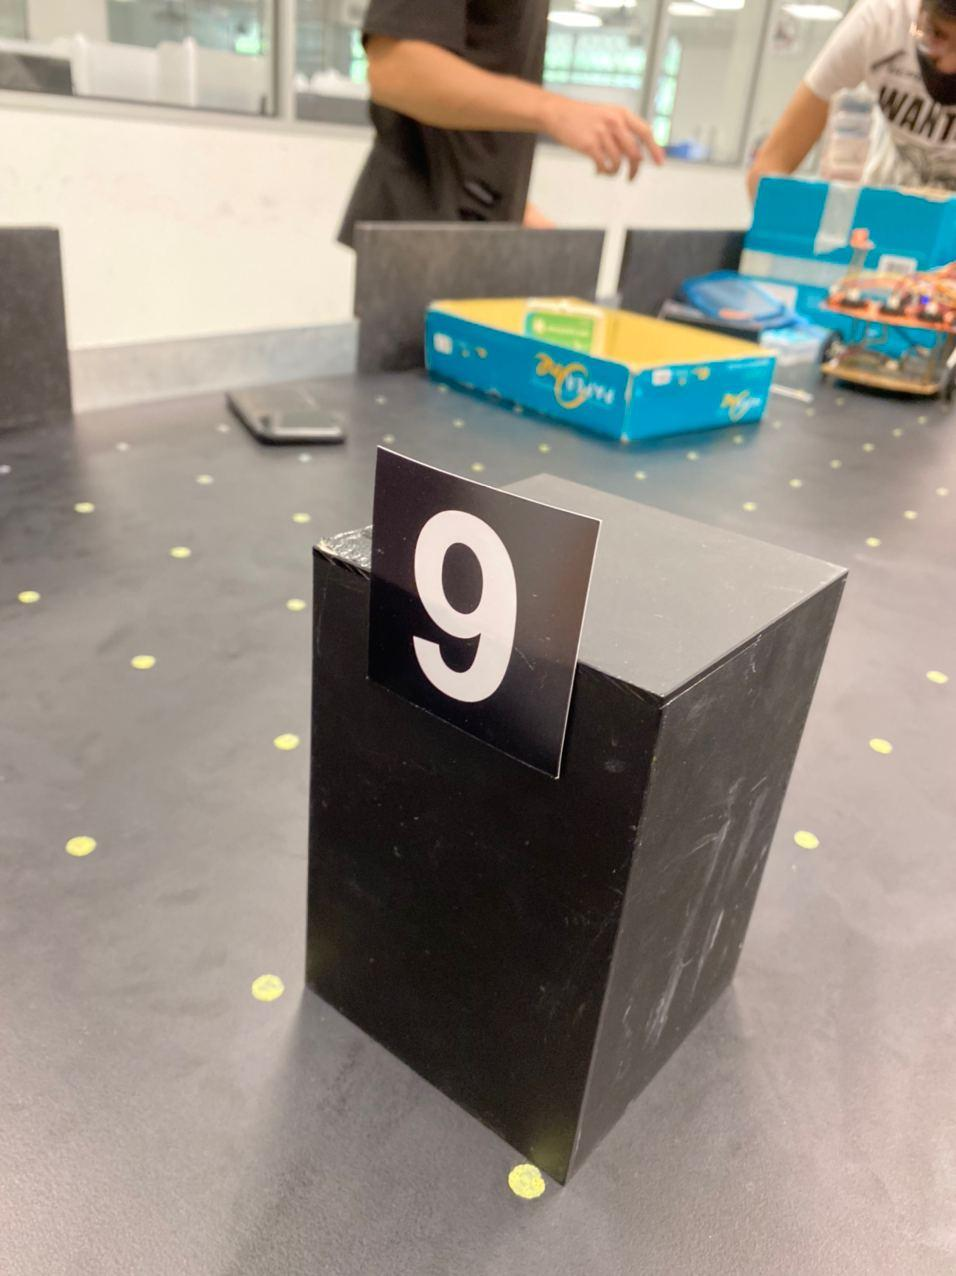9dd: (391, 487, 539, 736)
